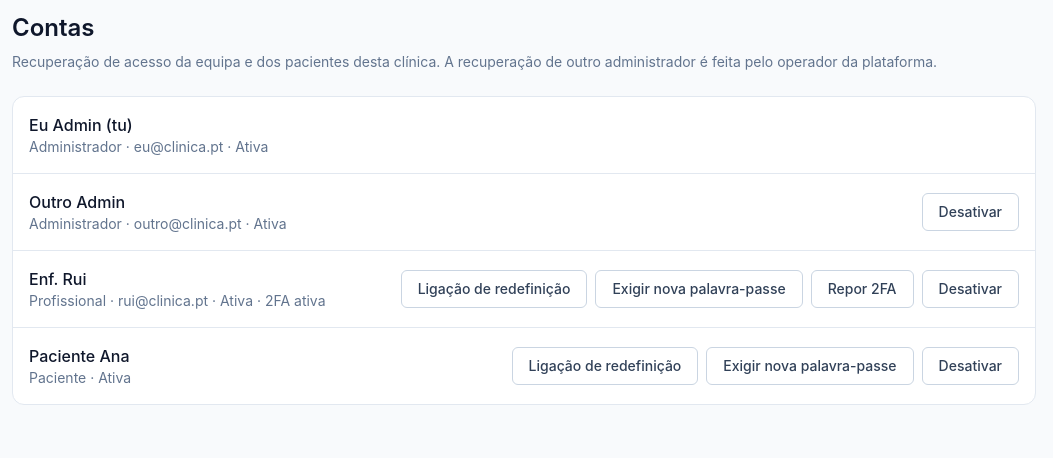
Test: AccountsPage › confirms a completed action with a success message and refreshes the list
Check: the text "Enf. Rui" is shown, box [29,269,86,289]
Click the button "Desativar" in the row of "Enf. Rui".
click(970, 289)  # box [922,270,1019,308]
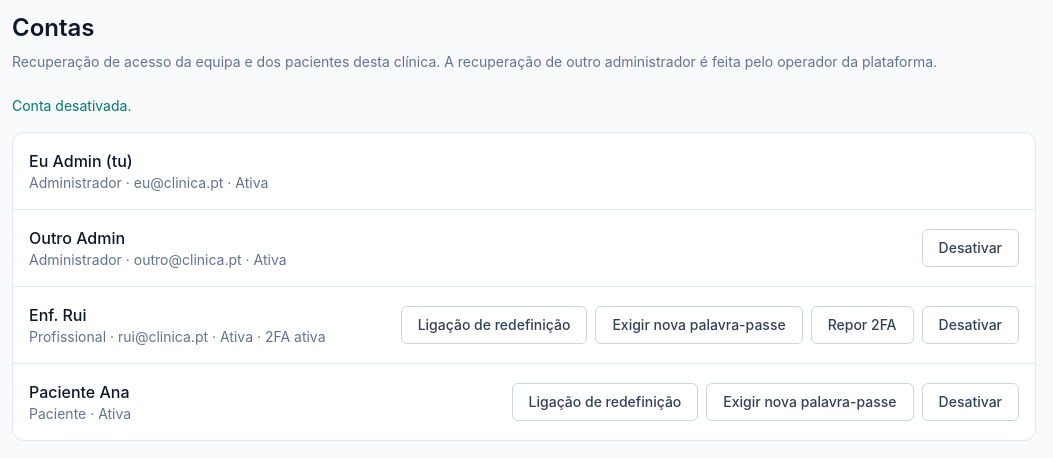
Check: the message reads "Conta desativada.", box [12,97,131,114]
